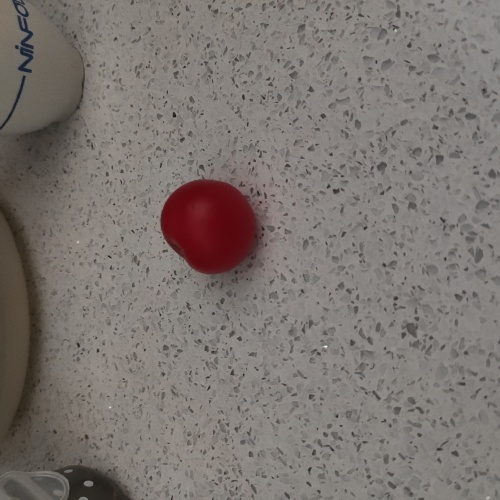pomodoro: (154, 174, 271, 280)
